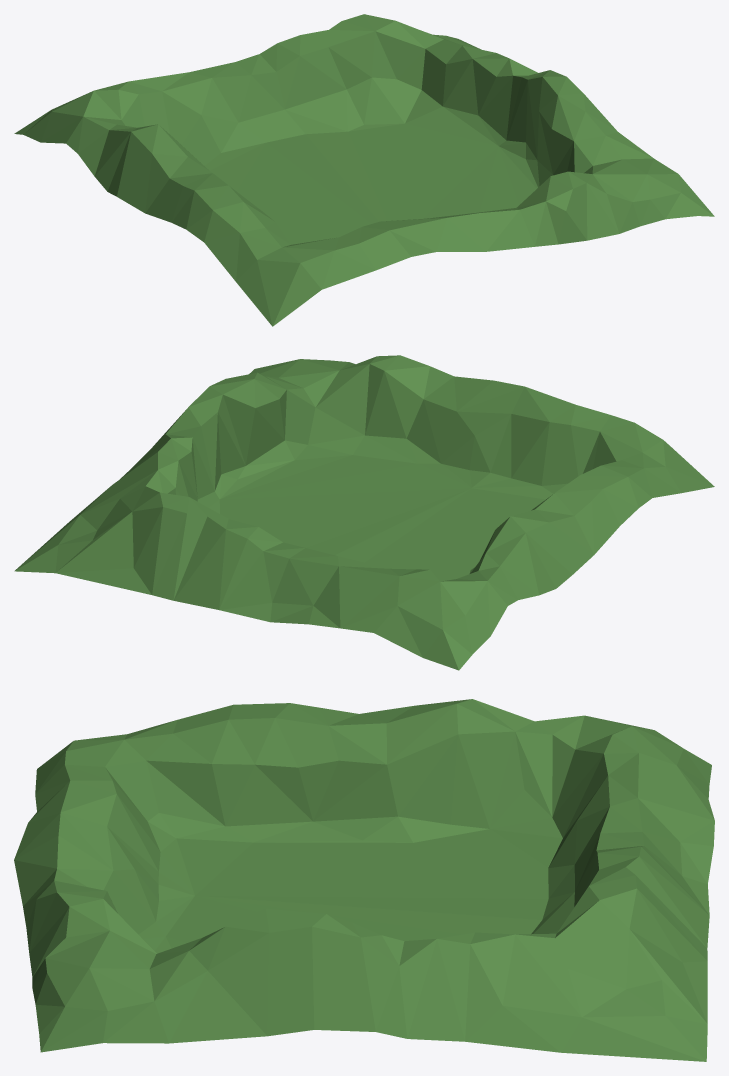
The picture shows the model from 3 angles, top to bottom: view 1: azimuth 30°, elevation 25°; view 2: azimuth 150°, elevation 25°; view 3: azimuth 270°, elevation 25°; orthographic projection. The views are drawn at different scales.
Parts seen in each view (by area): view 1: Plane; view 2: Plane; view 3: Plane.
Boxes of the visible parts, x1,y1,x2,y2 form: Plane: (14, 14, 714, 326); Plane: (14, 355, 714, 670); Plane: (14, 699, 714, 1061).
Size of the model in its own units: 7409 by 1318 by 7659.
